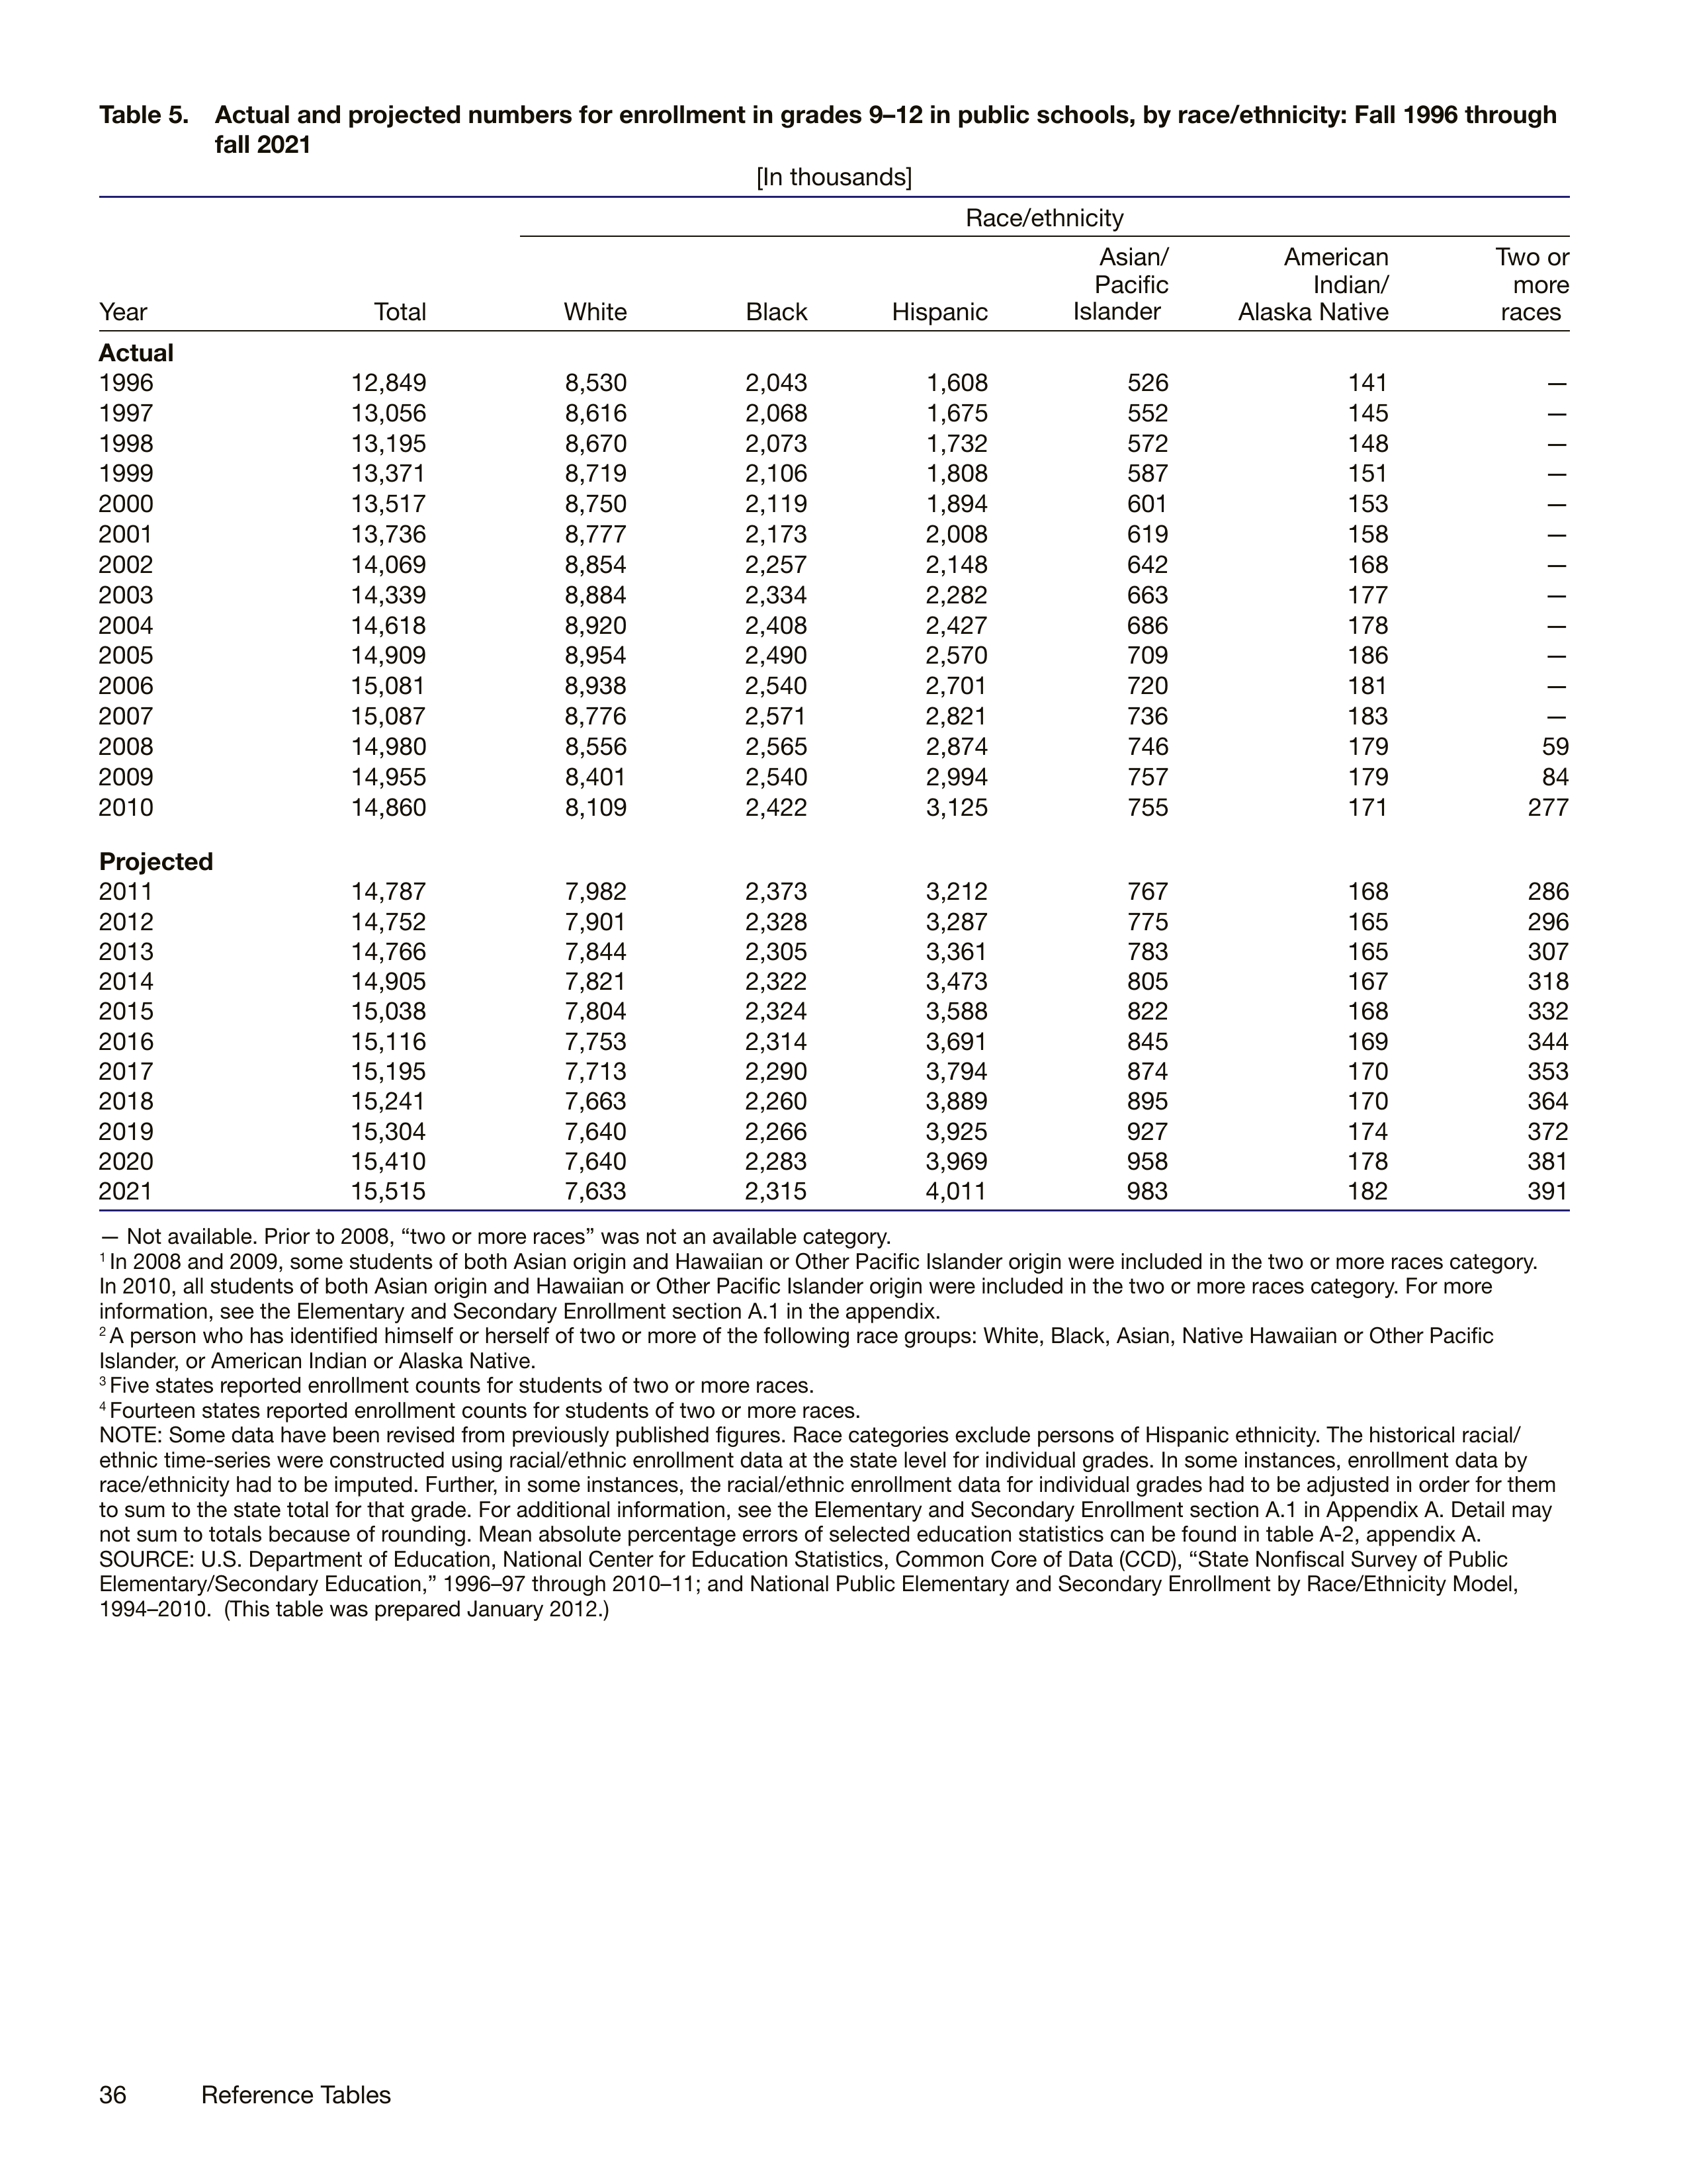table: (74, 190, 1600, 1215)
